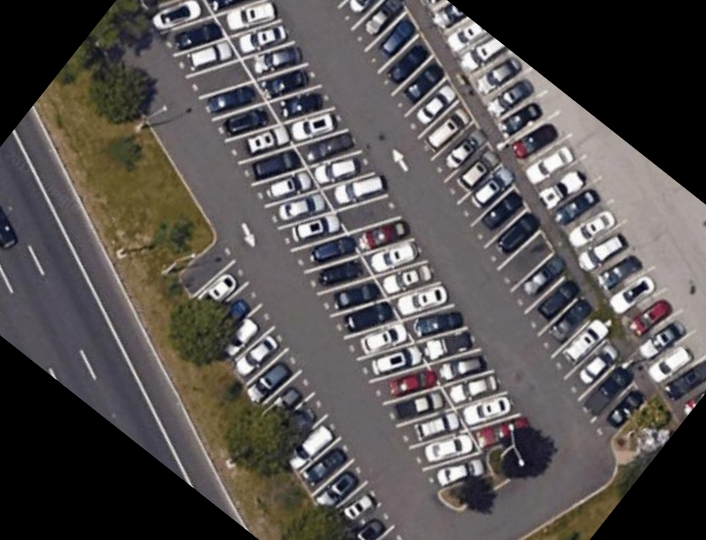parkingspot: (138, 0, 550, 497), (330, 0, 652, 453), (420, 0, 706, 426), (175, 231, 406, 540)
